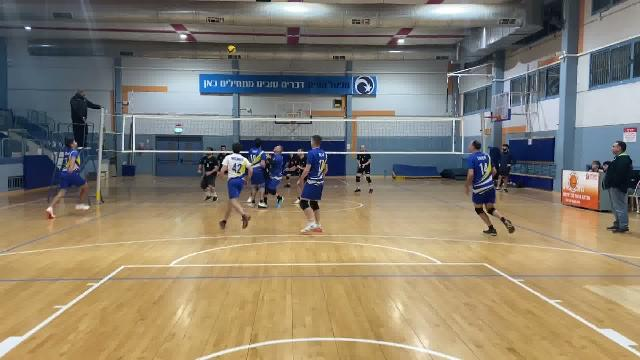ball: (225, 43, 239, 59)
